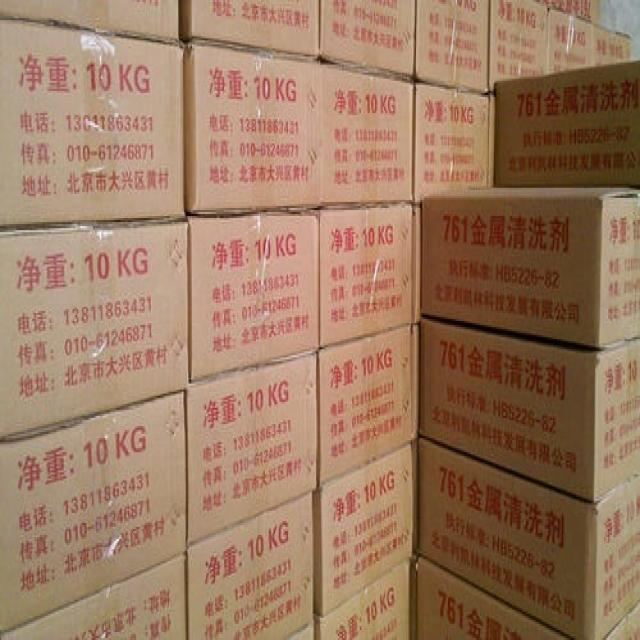box: (0, 392, 186, 634), (418, 436, 639, 638), (0, 220, 189, 439), (418, 317, 639, 504), (0, 18, 185, 226), (420, 188, 639, 349), (186, 352, 317, 546), (186, 39, 323, 214), (187, 208, 319, 383), (494, 60, 639, 188), (188, 493, 314, 638), (313, 442, 413, 617), (317, 324, 412, 488), (0, 555, 186, 638), (320, 201, 413, 348), (320, 62, 413, 204), (417, 556, 569, 638), (413, 82, 488, 203), (0, 0, 179, 45), (179, 0, 319, 55), (319, 0, 415, 78), (314, 560, 410, 638), (414, 0, 489, 94), (488, 0, 547, 92), (547, 8, 594, 74), (594, 23, 633, 67)
